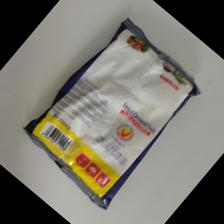Salt: (23, 18, 197, 208)
